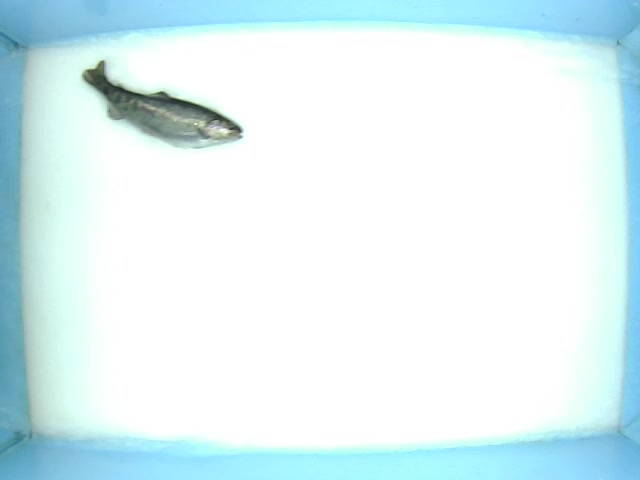fish: (66, 52, 263, 152)
